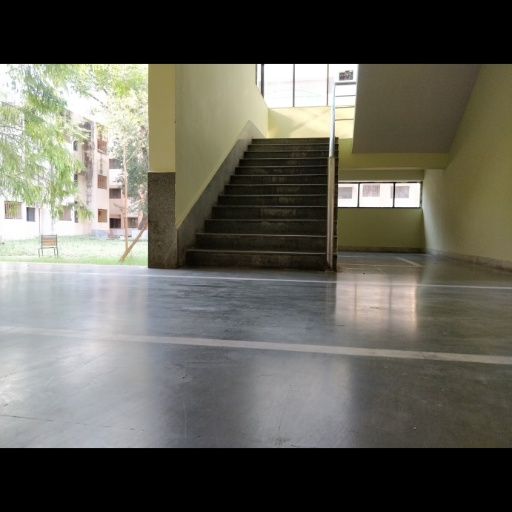Stairs: (186, 138, 328, 269)
